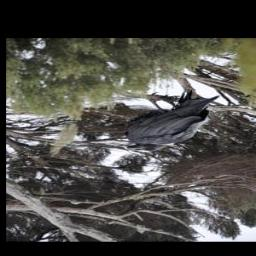Crow: (123, 87, 219, 153)
